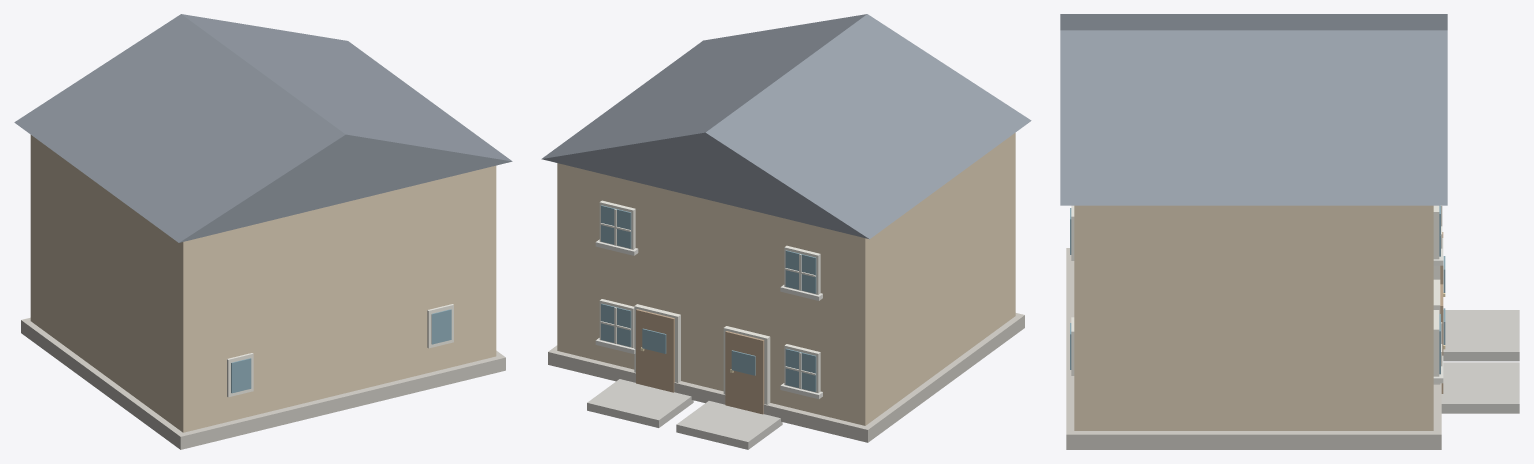
File: House_Duplex.glb
3 renders of one model, left to right at view 1: azimuth 30°, elevation 25°; view 2: azimuth 150°, elevation 25°; view 3: azimuth 270°, elevation 25°, orthographic. The views are drawn at different scales.
Parts seen in each view (by area): view 1: 001_exterior_001, 002_gable_roof_002, 000_foundation_000, 034_rear_glass_034, 036_rear_glass_036; view 2: 001_exterior_001, 002_gable_roof_002, 000_foundation_000, 032_stoop_032, 027_stoop_027, 024_door_024, 029_door_029, 004_window_glass_004, 014_window_glass_014, 009_window_glass_009, 019_window_glass_019, 023_door_trim_023 (+6 smaller); view 3: 001_exterior_001, 002_gable_roof_002, 000_foundation_000, 032_stoop_032, 027_stoop_027, 008_window_trim_008.
Part boxes in pixels (x1,y1,x2,y2): 001_exterior_001: [30, 135, 496, 432]; 002_gable_roof_002: [14, 14, 512, 242]; 000_foundation_000: [21, 317, 505, 449]; 034_rear_glass_034: [231, 358, 251, 393]; 036_rear_glass_036: [431, 309, 451, 344]; 001_exterior_001: [557, 133, 1015, 425]; 002_gable_roof_002: [541, 14, 1031, 239]; 000_foundation_000: [548, 313, 1024, 442]; 032_stoop_032: [587, 379, 693, 427]; 027_stoop_027: [676, 401, 782, 449]; 024_door_024: [725, 331, 764, 414]; 029_door_029: [636, 309, 674, 392]; 004_window_glass_004: [785, 348, 816, 391]; 014_window_glass_014: [785, 250, 816, 293]; 009_window_glass_009: [601, 303, 631, 346]; 019_window_glass_019: [601, 205, 631, 248]; 023_door_trim_023: [723, 326, 770, 404]; 001_exterior_001: [1074, 205, 1433, 430]; 002_gable_roof_002: [1060, 14, 1447, 205]; 000_foundation_000: [1066, 248, 1441, 449]; 032_stoop_032: [1441, 362, 1519, 413]; 027_stoop_027: [1443, 310, 1519, 361]; 008_window_trim_008: [1433, 310, 1439, 376].
Size of the model in its own units: 9.6 by 7.75 by 9.72.
